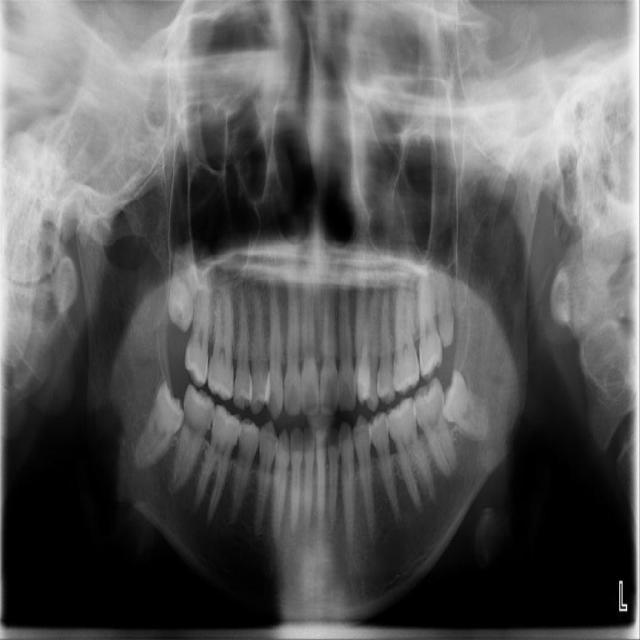3M ESPE Implant: (167, 253, 197, 332)
73: (602, 562, 618, 578)
BioHorizons Implant: (416, 264, 444, 381)
BioLife Implant: (435, 270, 456, 347)
Biomet 3i Implant: (425, 368, 500, 451)
Blue Sky Bio Implant: (408, 376, 458, 481)
Caries: (183, 270, 215, 389)
Implant: (170, 383, 219, 495)
Keystone Dental Implant: (129, 378, 196, 477)
